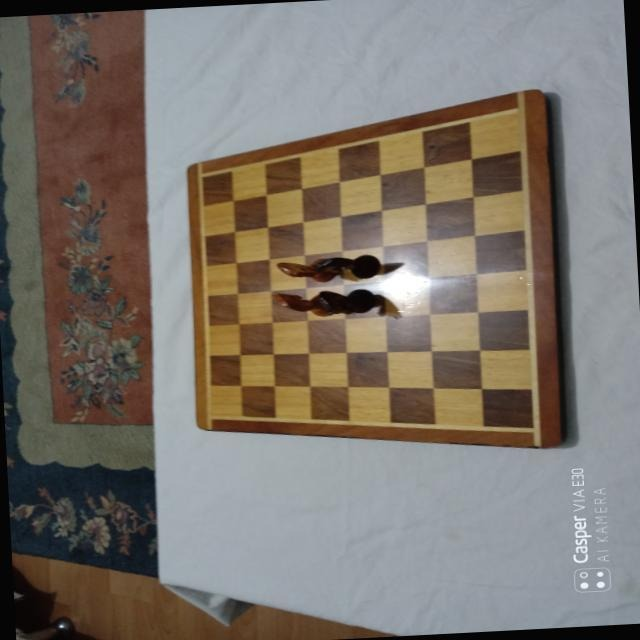black-knight: (311, 252, 381, 280), (318, 286, 374, 315)
white-knight: (271, 289, 335, 319), (275, 256, 336, 283)
